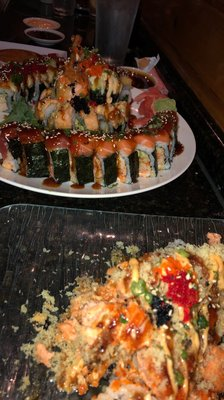pizza: (94, 0, 141, 65)
sushi: (1, 205, 224, 400), (22, 17, 66, 47), (24, 28, 66, 47)
